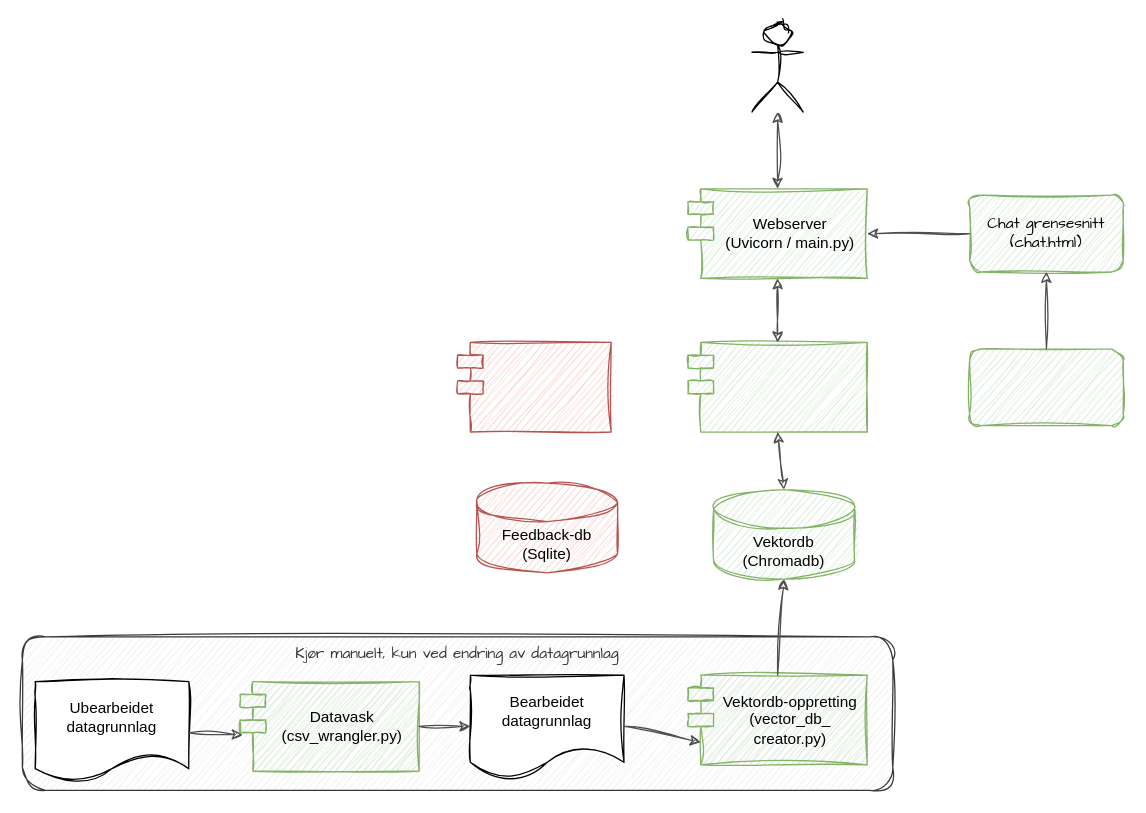
The diagram is 1146 pixels wide and 813 high, and some of its shapes have lost their labels. Each missing label, with the centre of its shape:
"Bruker" goes at (x=777, y=66).
"Chat-klient (chat.py)" goes at (x=777, y=386).
"Feedback loop" goes at (x=533, y=386).
"Mal (base.html)" goes at (x=1045, y=387).
